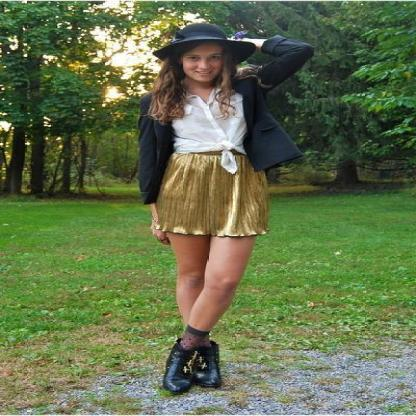hat: (153, 25, 255, 64)
jacket: (132, 32, 311, 204)
shirt: (172, 93, 245, 173)
shoe: (156, 325, 229, 396)
skirt: (150, 146, 274, 246)
